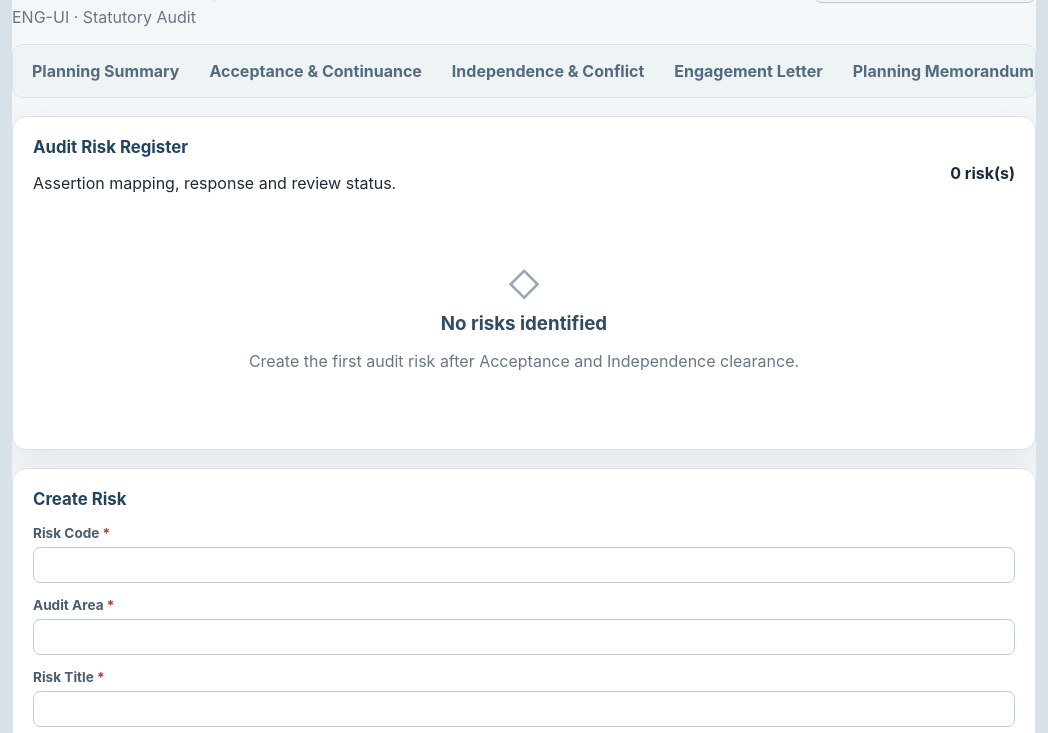
React component interaction › creates an Audit Risk through the Complete Phase 2 form after planning prerequisites
Expected: the heading "Audit Risk Register" is shown, [33,137,188,157]
Type "R-UI-1" into the field labelled "Risk Code *" at (524, 565), box [33,547,1015,583]
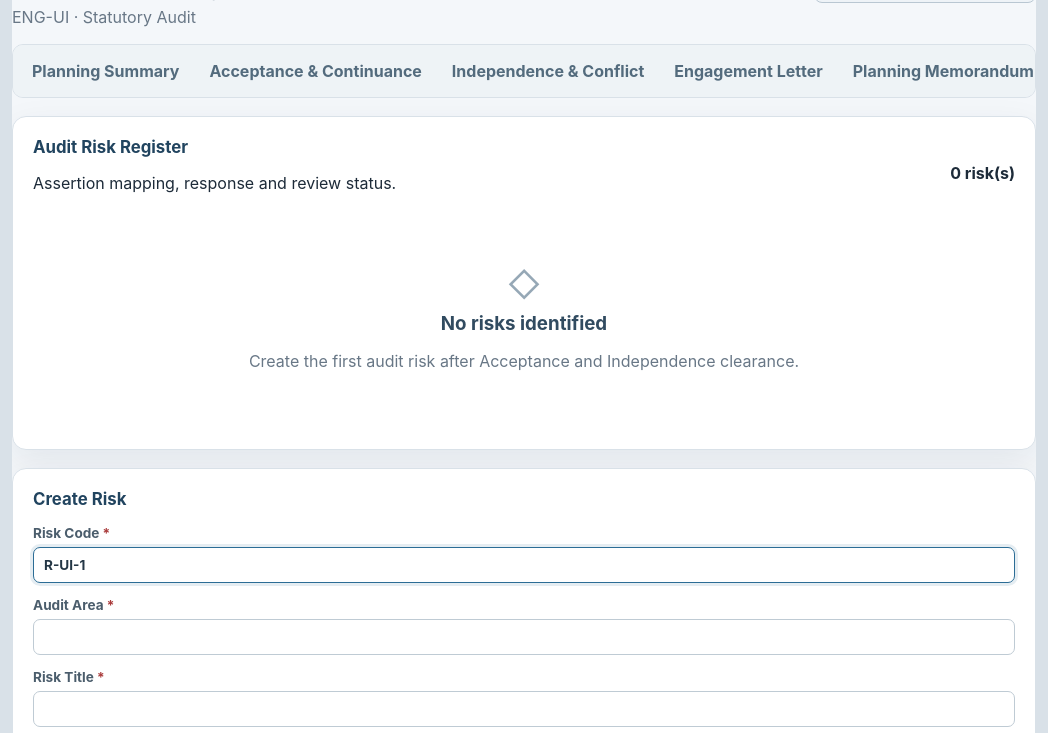
Type "Revenue" into the field labelled "Audit Area *" at (524, 637), box [33,619,1015,655]
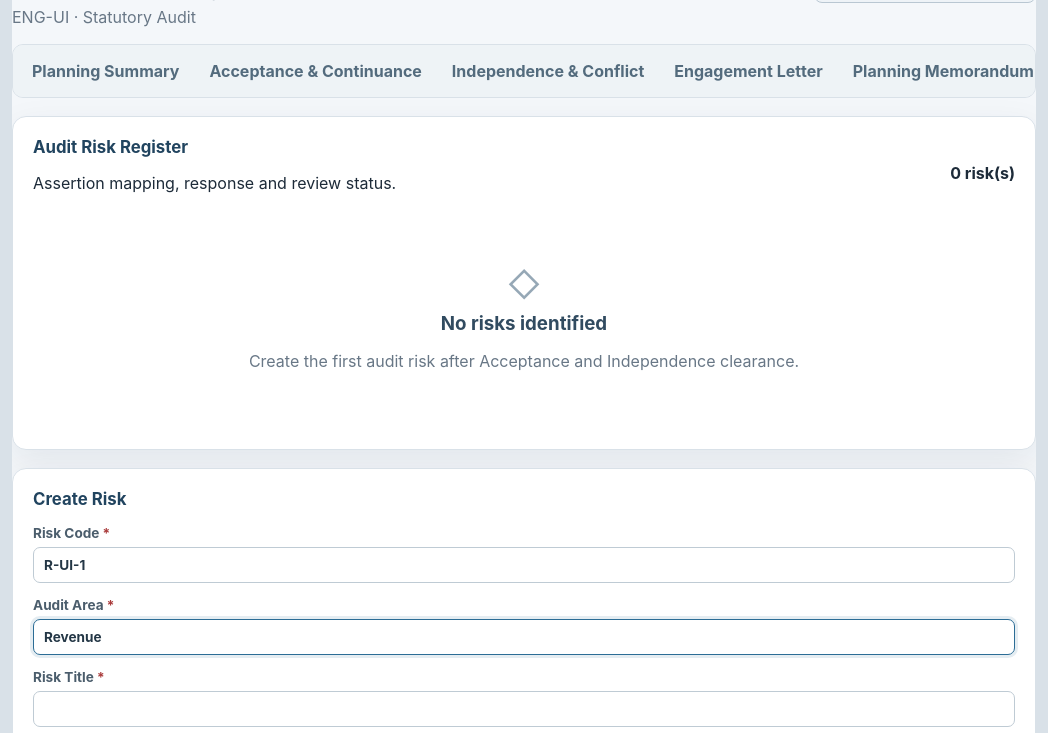
Type "Revenue recognition" into the field labelled "Risk Title *" at (524, 709), box [33,691,1015,727]
(page scrolled)
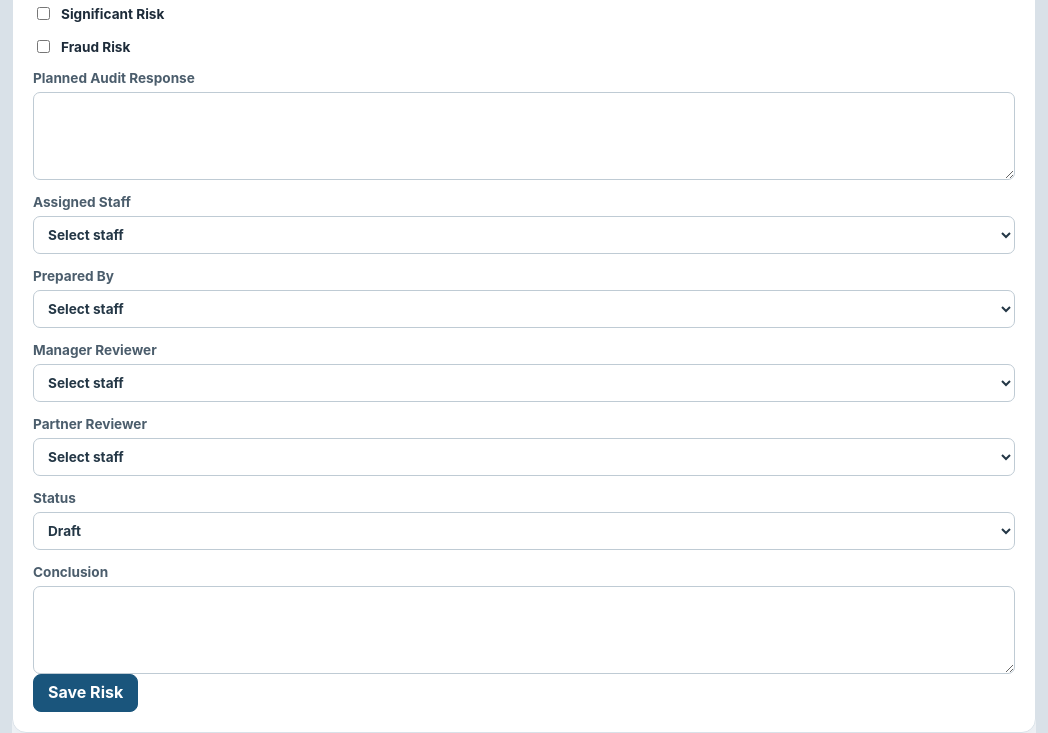
Click the button "Save Risk" at (86, 693), box [33,674,138,712]
(page scrolled)
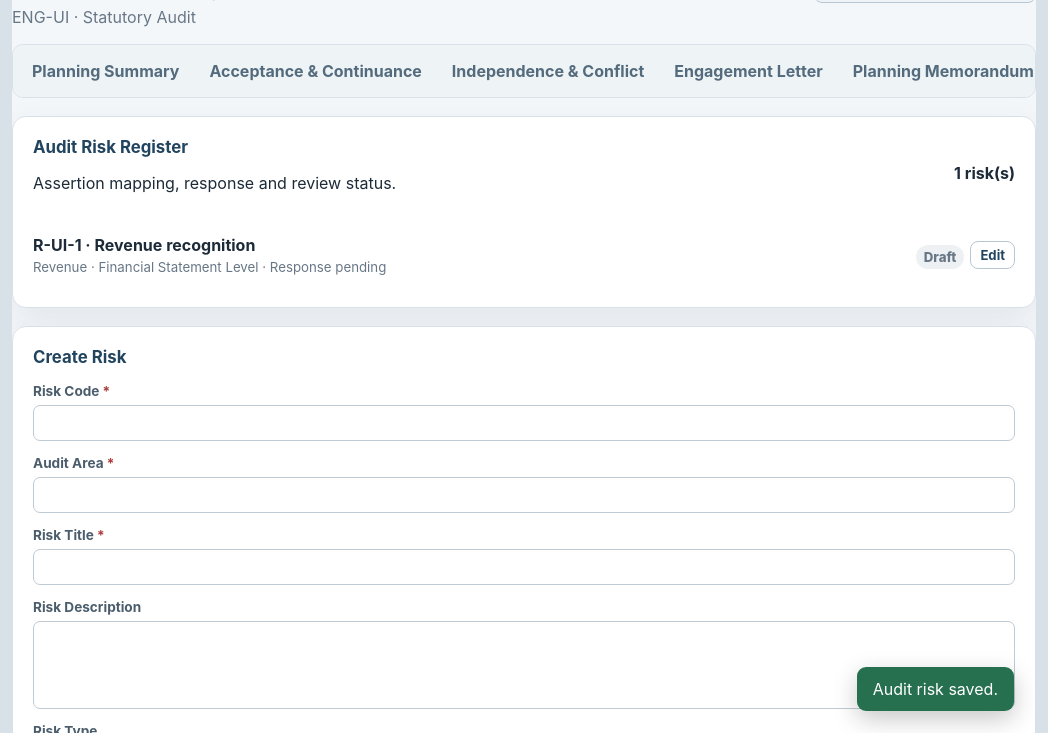
Now the text "R-UI-1 · Revenue recognition" is shown, box [33,235,255,255]
